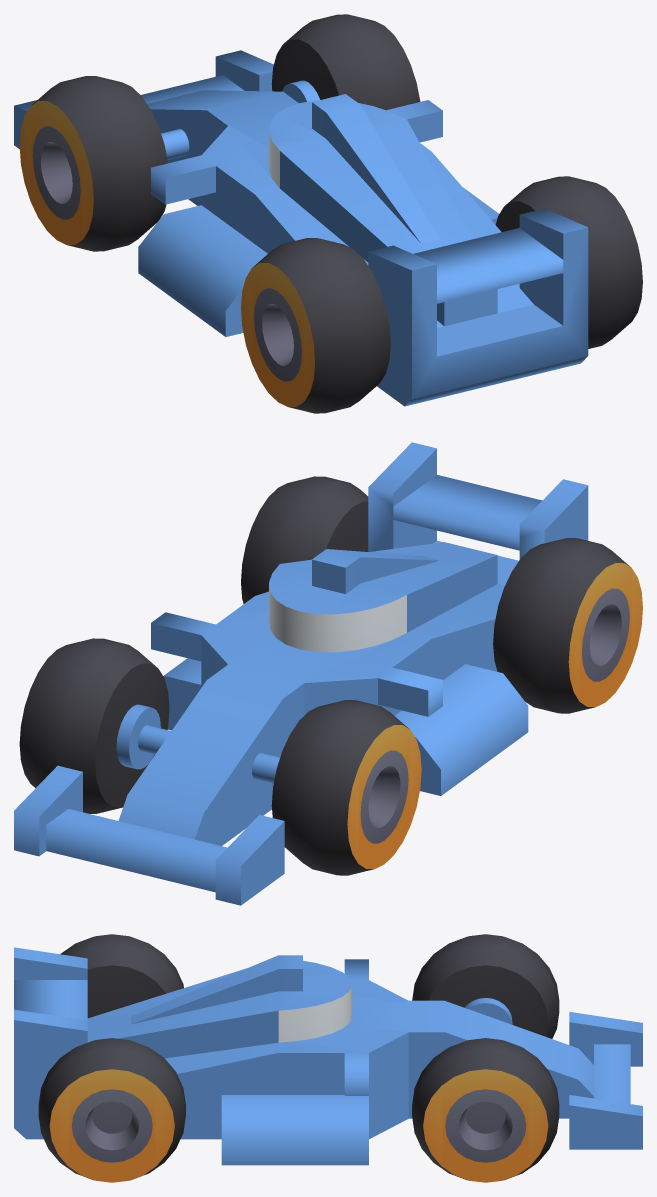
File: formula.glb
The picture shows the model from 3 angles, top to bottom: view 1: azimuth 30°, elevation 25°; view 2: azimuth 150°, elevation 25°; view 3: azimuth 270°, elevation 25°; orthographic projection. The views are drawn at different scales.
Visible parts, largest first — view 1: body, wheel-back-left, wheel-front-left, wheel-back-right, wheel-front-right; view 2: body, wheel-back-left, wheel-front-left, wheel-front-right, wheel-back-right; view 3: body, wheel-back-right, wheel-front-right, wheel-front-left, wheel-back-left.
Boxes of the visible parts, bbox=[...] form: body: bbox=[14, 50, 588, 406]; wheel-back-left: bbox=[241, 238, 390, 413]; wheel-front-left: bbox=[19, 76, 167, 251]; wheel-back-right: bbox=[495, 176, 642, 348]; wheel-front-right: bbox=[271, 14, 420, 110]; body: bbox=[14, 442, 588, 905]; wheel-back-left: bbox=[493, 538, 642, 713]; wheel-front-left: bbox=[271, 700, 421, 875]; wheel-front-right: bbox=[19, 638, 169, 813]; wheel-back-right: bbox=[241, 476, 368, 603]; body: bbox=[14, 947, 642, 1165]; wheel-back-right: bbox=[38, 1038, 185, 1182]; wheel-front-right: bbox=[412, 1038, 559, 1182]; wheel-front-left: bbox=[412, 934, 559, 1038]; wheel-back-left: bbox=[60, 934, 183, 1018].
Size of the model in its own units: 1.55 by 0.8728 by 3.05.
Materials: 2 (1 with a texture image).
